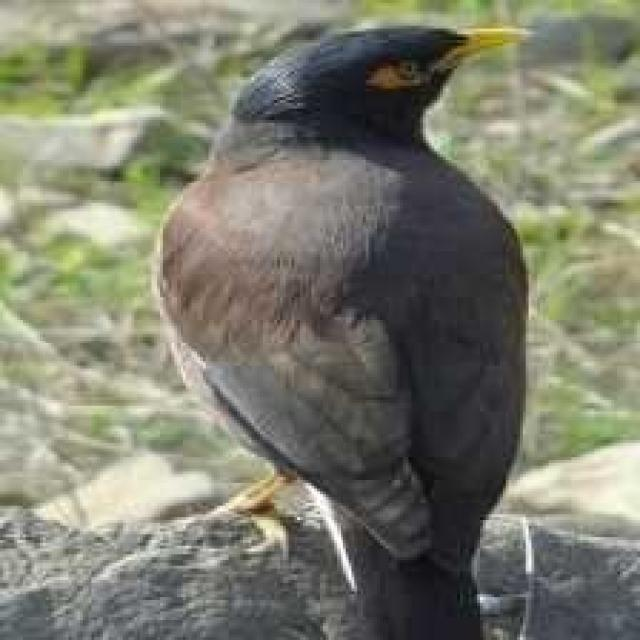bird: (154, 7, 538, 640)
